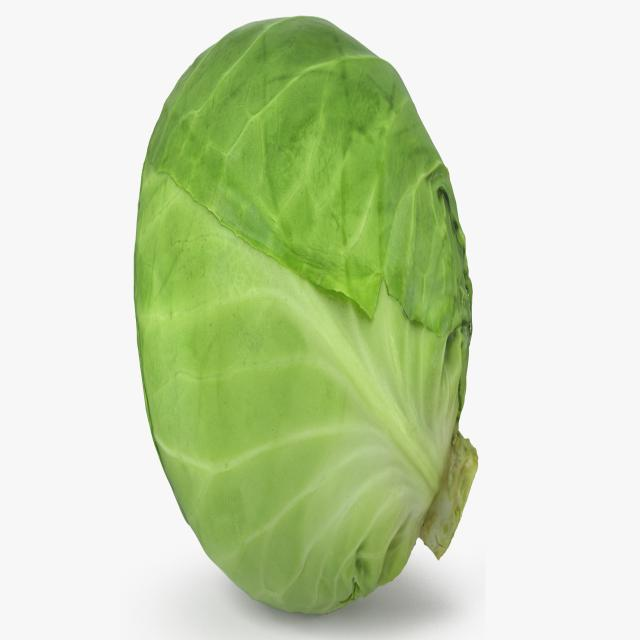cabbage: (128, 11, 478, 617)
